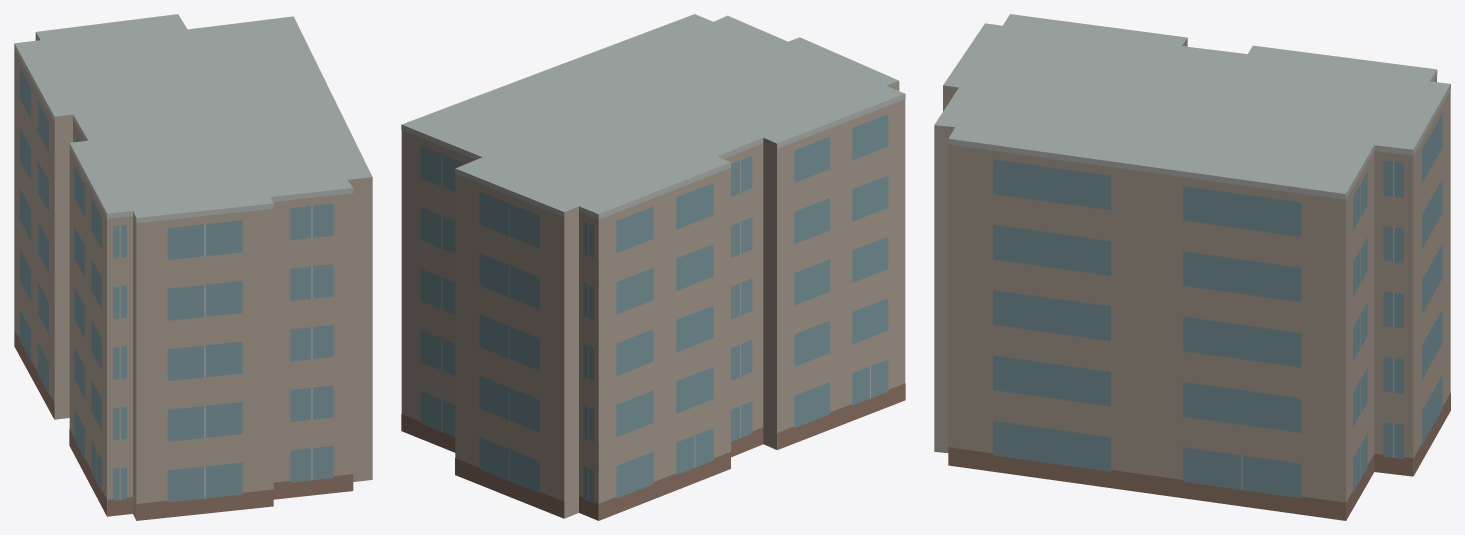
Rendered from survey-upis-32642261.glb.
3 renders of one model, left to right at view 1: azimuth 30°, elevation 25°; view 2: azimuth 150°, elevation 25°; view 3: azimuth 270°, elevation 25°, orthographic. The views are drawn at different scales.
Visible parts, largest first — view 1: survey-upis-32642261.tmp; view 2: survey-upis-32642261.tmp; view 3: survey-upis-32642261.tmp.
Part boxes in pixels (bbox=[...]): survey-upis-32642261.tmp: bbox=[14, 14, 372, 520]; survey-upis-32642261.tmp: bbox=[401, 14, 905, 520]; survey-upis-32642261.tmp: bbox=[934, 14, 1450, 520].
Bounding box in the file's own units: 16.56 × 14 × 20.07.
